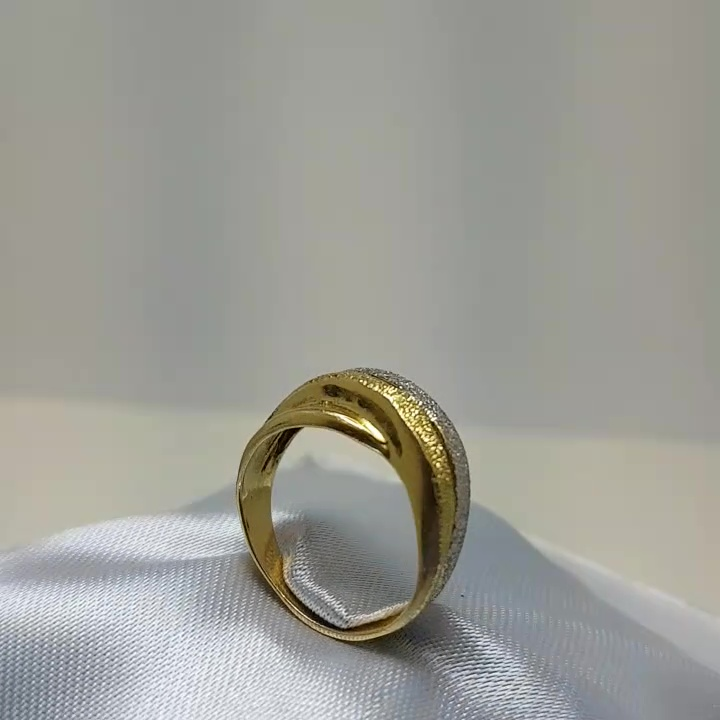Ring 5: (220, 357, 479, 654)
